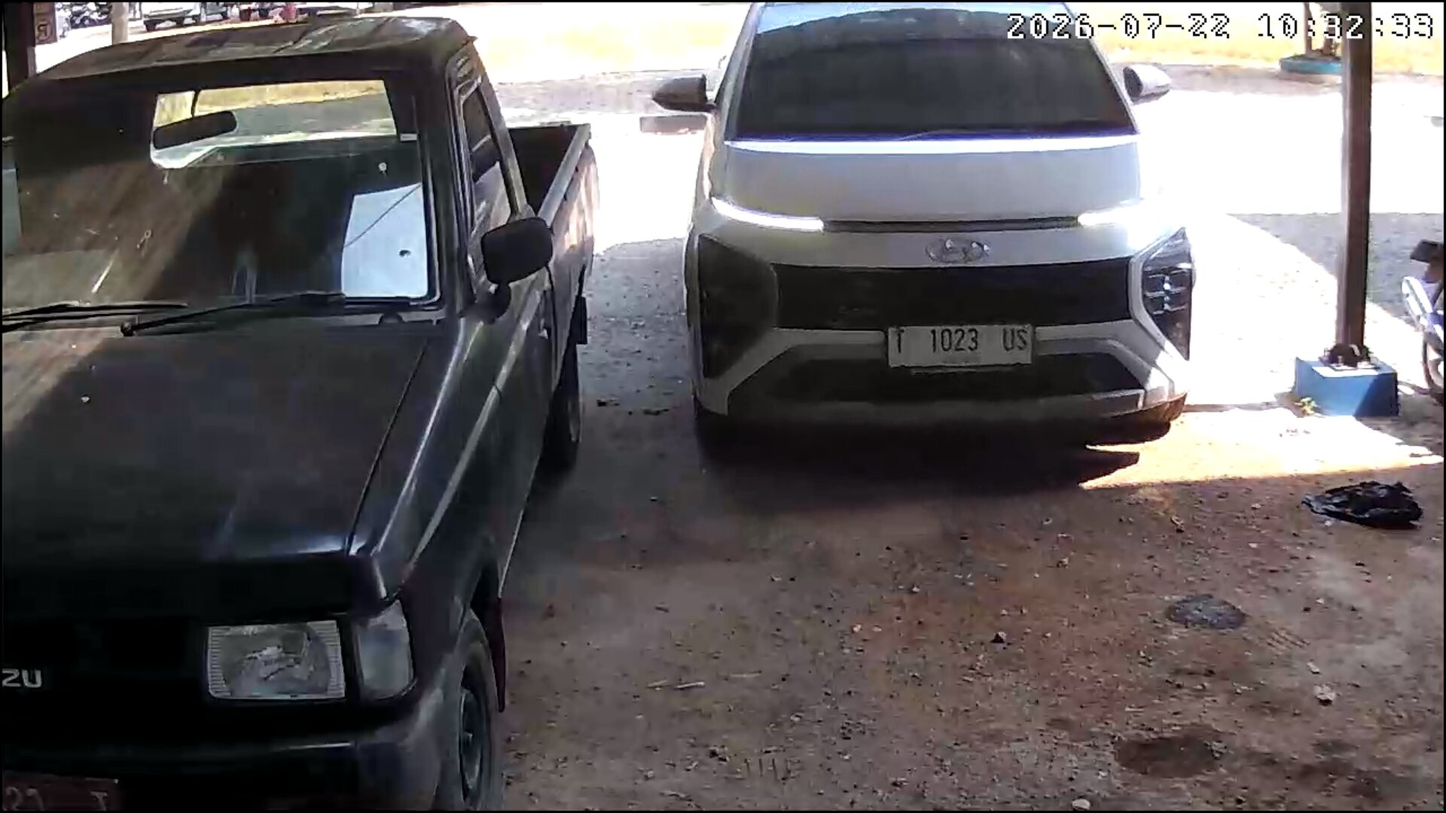plat nomor: (885, 323, 1035, 370)
